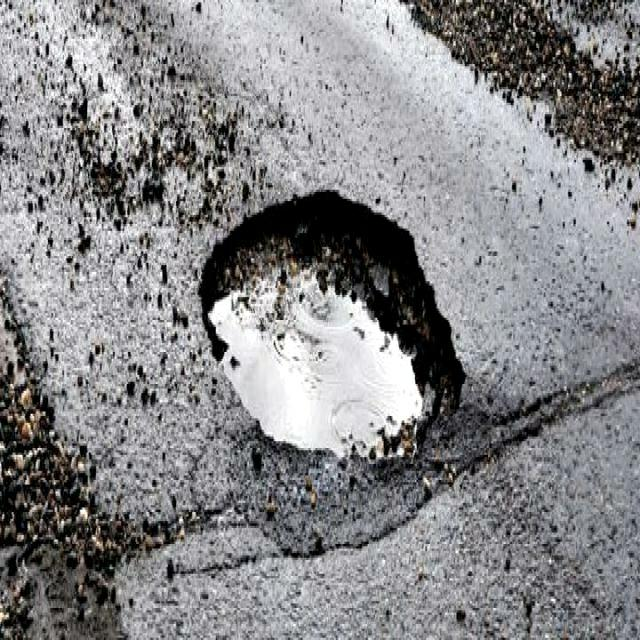Pothole: (193, 178, 470, 462)
